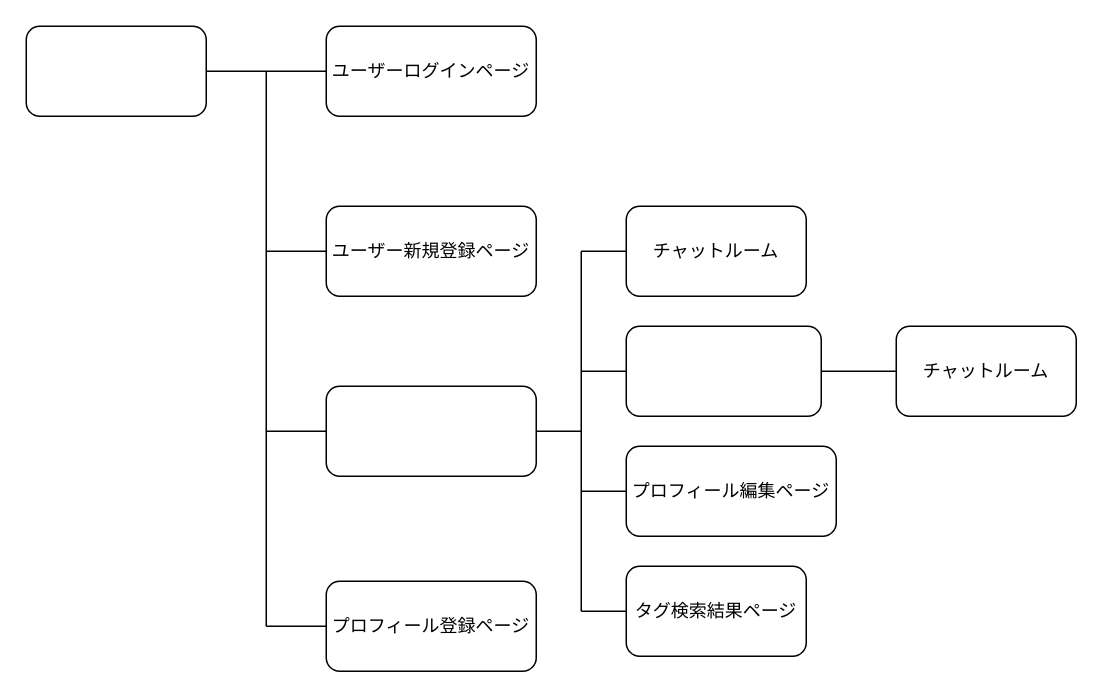
This 1103x698 diagram has some shape labels left out. Here are the shapes that lost their labels. From the top down, the centre of each, then its label:
At (x=115, y=70): "一覧ページ".
At (x=723, y=370): "メッセージ一覧ページ".
At (x=430, y=430): "プロフィール詳細ページ".
